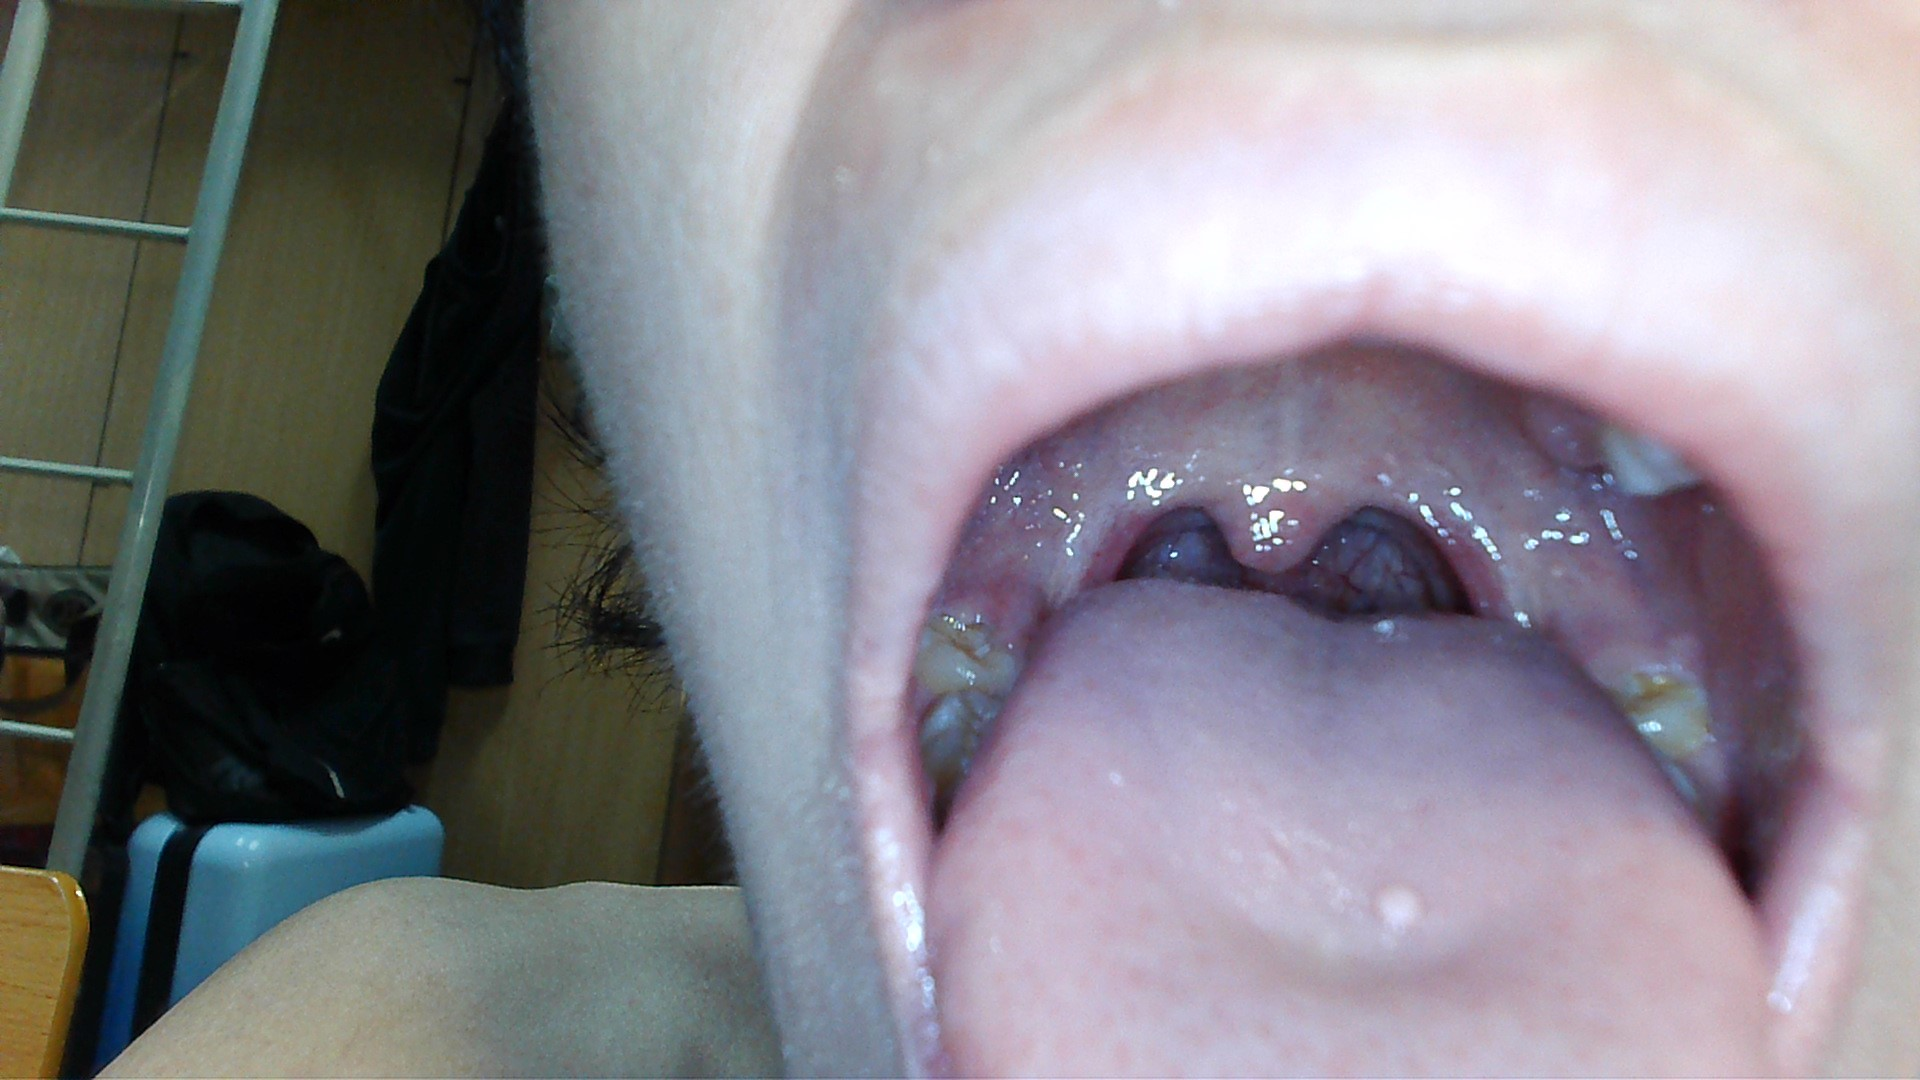throat: (1418, 484, 1530, 616), (1069, 472, 1158, 588)
